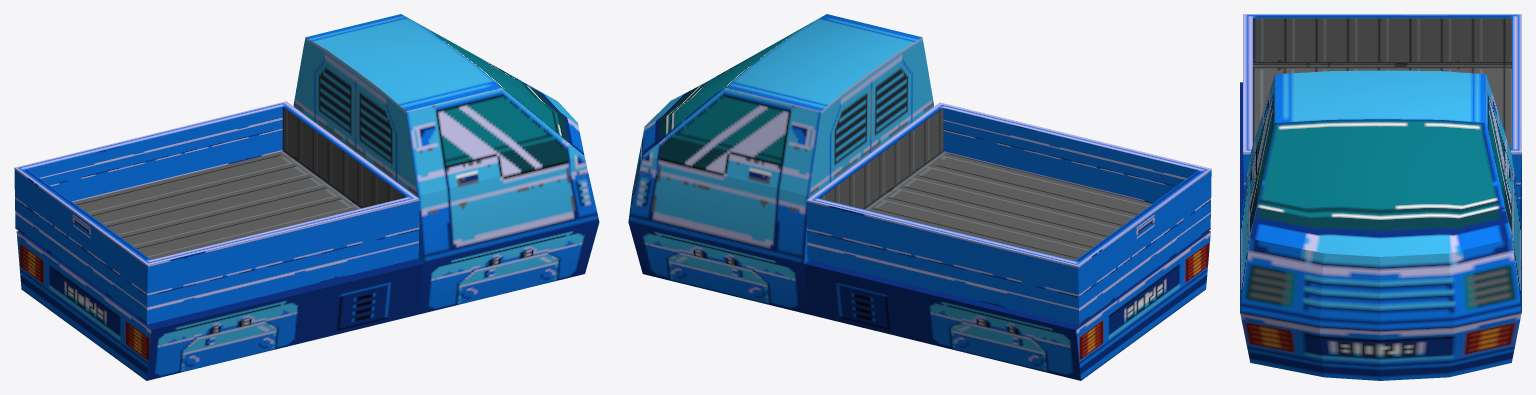
Rendered from truck.FBX.
3 views of the same model, side by side, from view 1: azimuth 30°, elevation 25°; view 2: azimuth 150°, elevation 25°; view 3: azimuth 270°, elevation 25° (orthographic). The views are drawn at different scales.
Parts seen in each view (by area): view 1: truck, truck_bed; view 2: truck, truck_bed; view 3: truck, truck_bed.
Boxes of the visible parts, left/top/right/bottom form: truck: left=16, top=14, right=599, bottom=380; truck_bed: left=14, top=101, right=419, bottom=324; truck: left=628, top=14, right=1210, bottom=380; truck_bed: left=806, top=102, right=1211, bottom=325; truck: left=1240, top=70, right=1521, bottom=380; truck_bed: left=1243, top=14, right=1521, bottom=208.
Bounding box in the file's own units: 56.71 × 22.13 × 27.28.
Materials: 2 (2 with a texture image).
